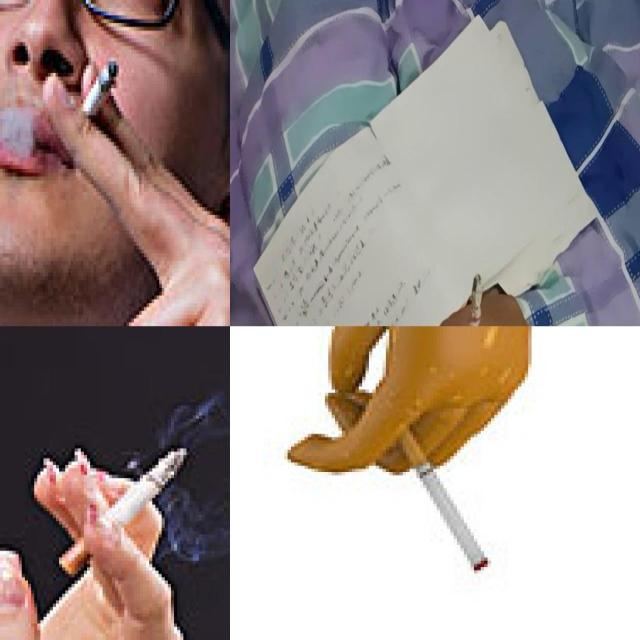smoking: (58, 446, 190, 576), (392, 423, 490, 573), (68, 59, 119, 142), (458, 272, 486, 326)
